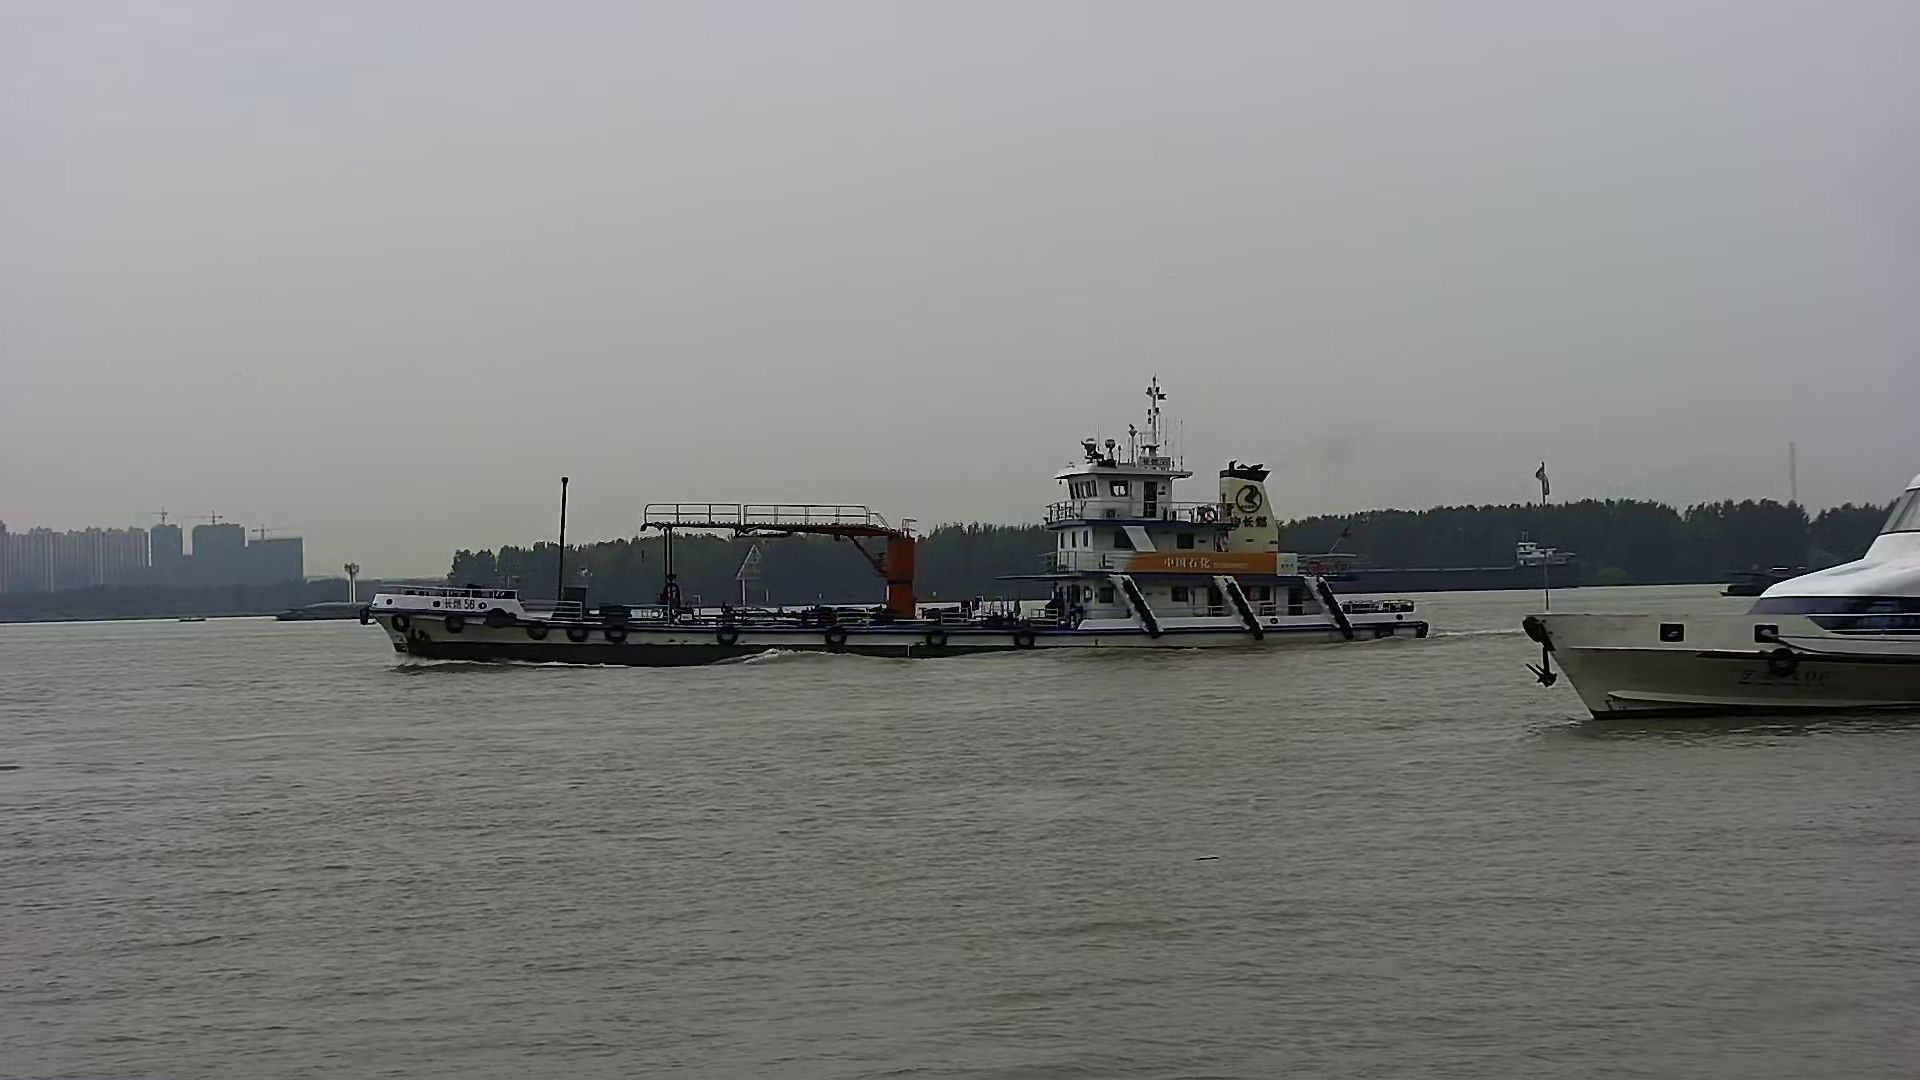ship: (375, 426, 1429, 669), (1523, 465, 1920, 720), (1278, 526, 1576, 589), (277, 559, 372, 620), (1716, 560, 1846, 597)
